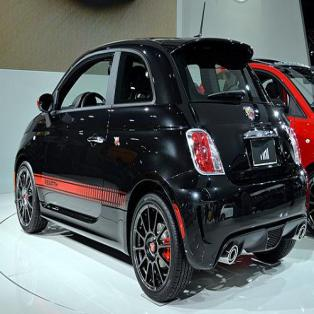Auto: (13, 3, 310, 305)
